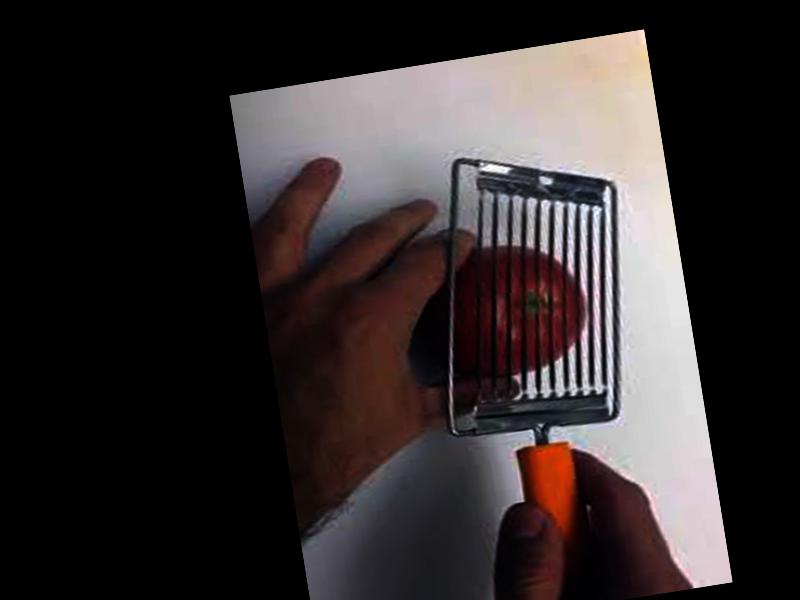Tomato: (415, 237, 593, 390)
